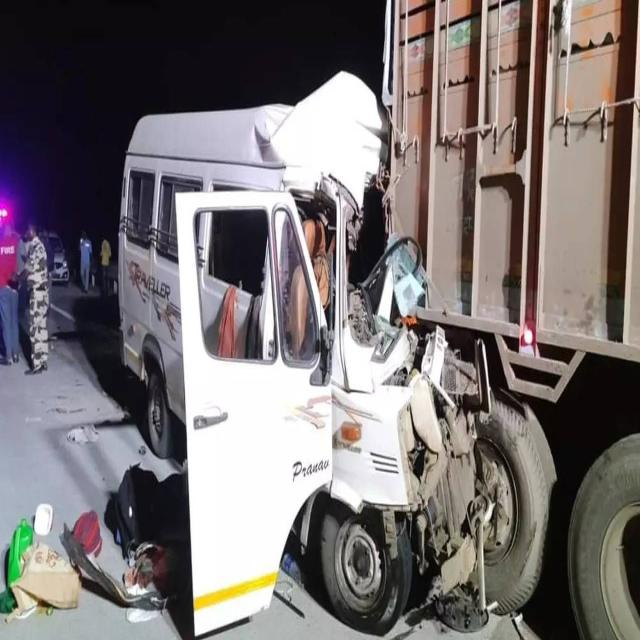accident: (119, 73, 548, 634)
